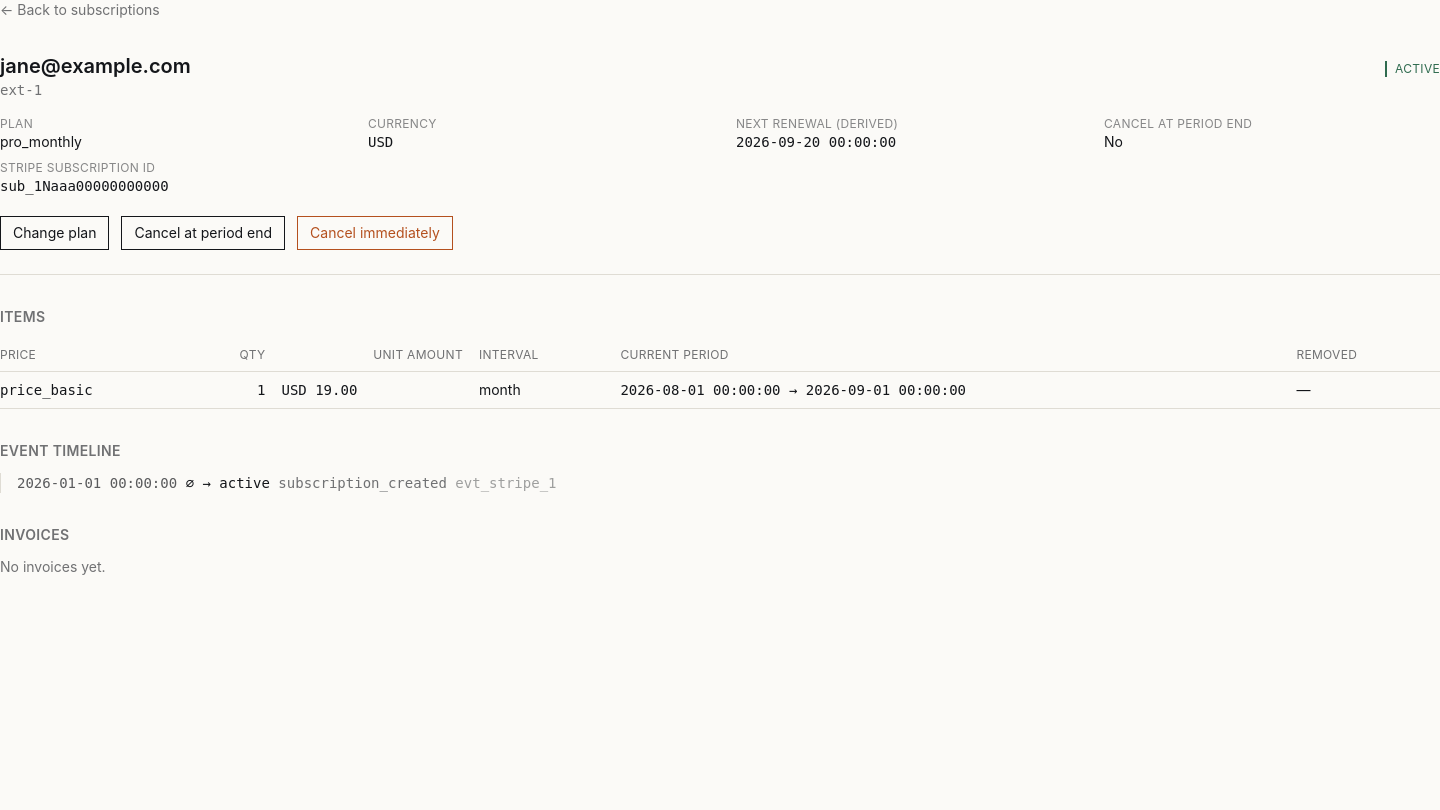
SubscriptionDetailPage cancel confirmation flow › never sends a cancel request when the operator backs out via "Never mind"
expect the heading "jane@example.com" is shown: met, box [0,52,191,80]
// Open via "Cancel at period end"...
Click the button "Cancel at period end" at point(203, 233), box [121,216,285,250]
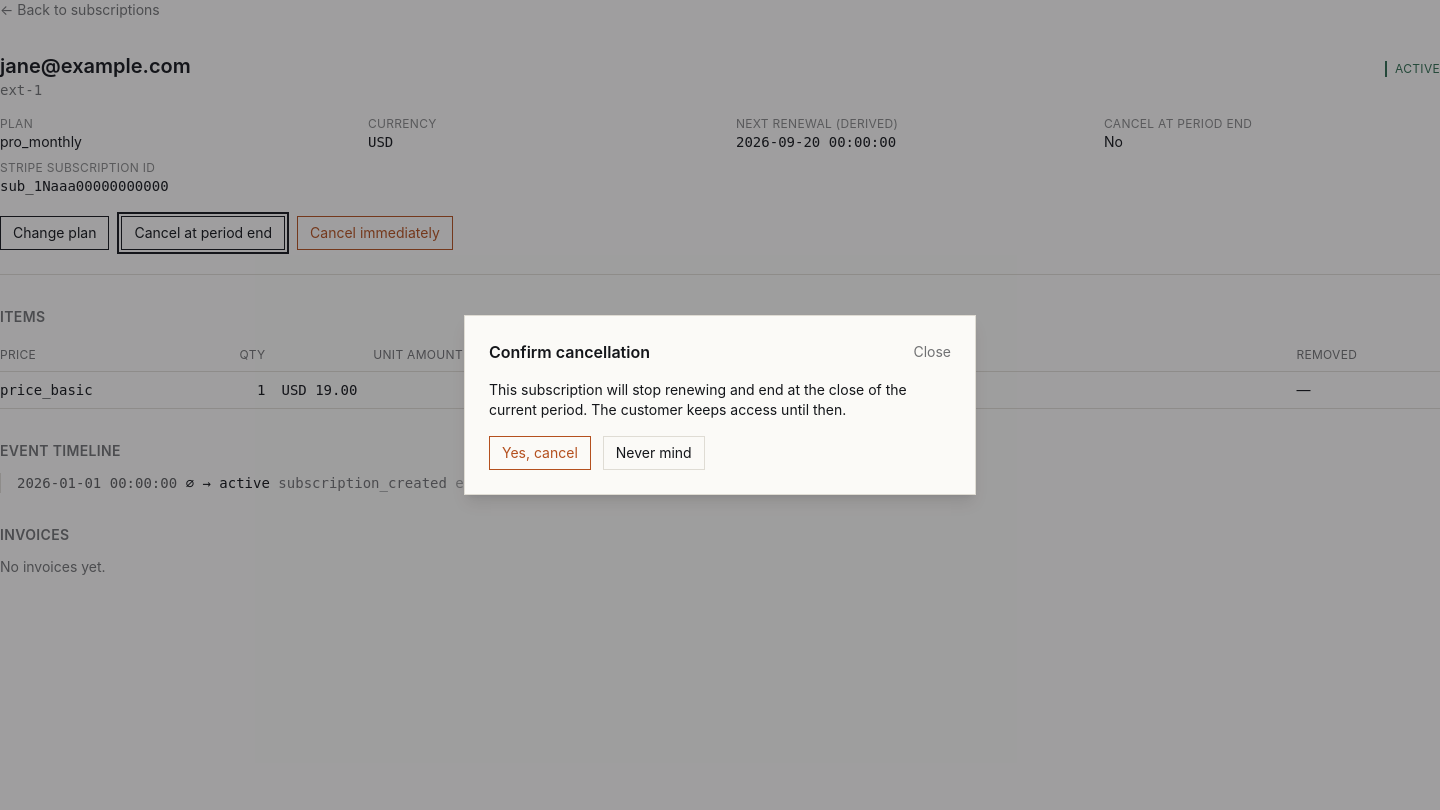
Click the button "Never mind" at point(654, 453), box [603,436,705,470]
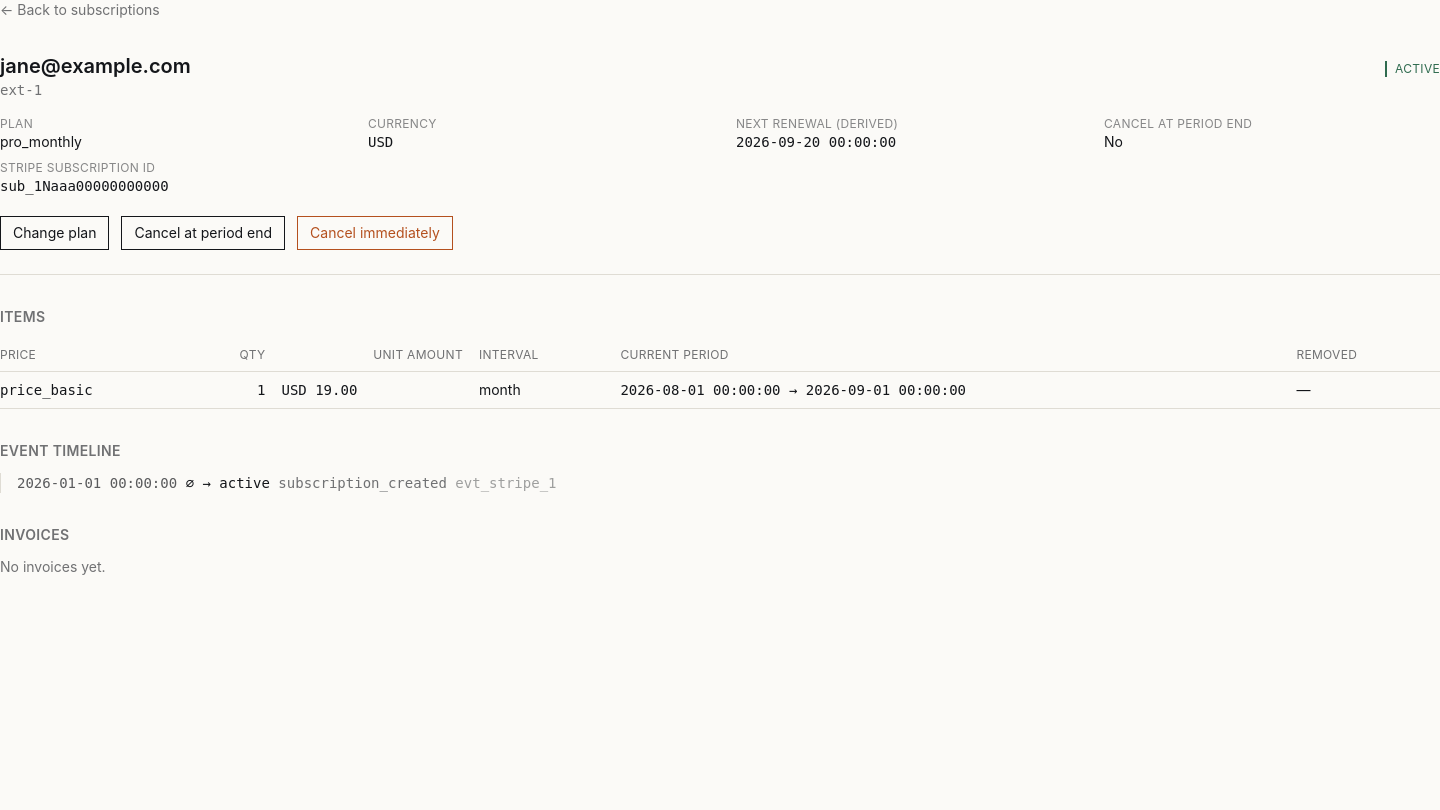
expect the heading "Confirm cancellation" is gone: met
// ...and via "Cancel immediately" too - neither path should ever fire the request.
Click the button "Cancel immediately" at point(375, 233), box [297,216,453,250]
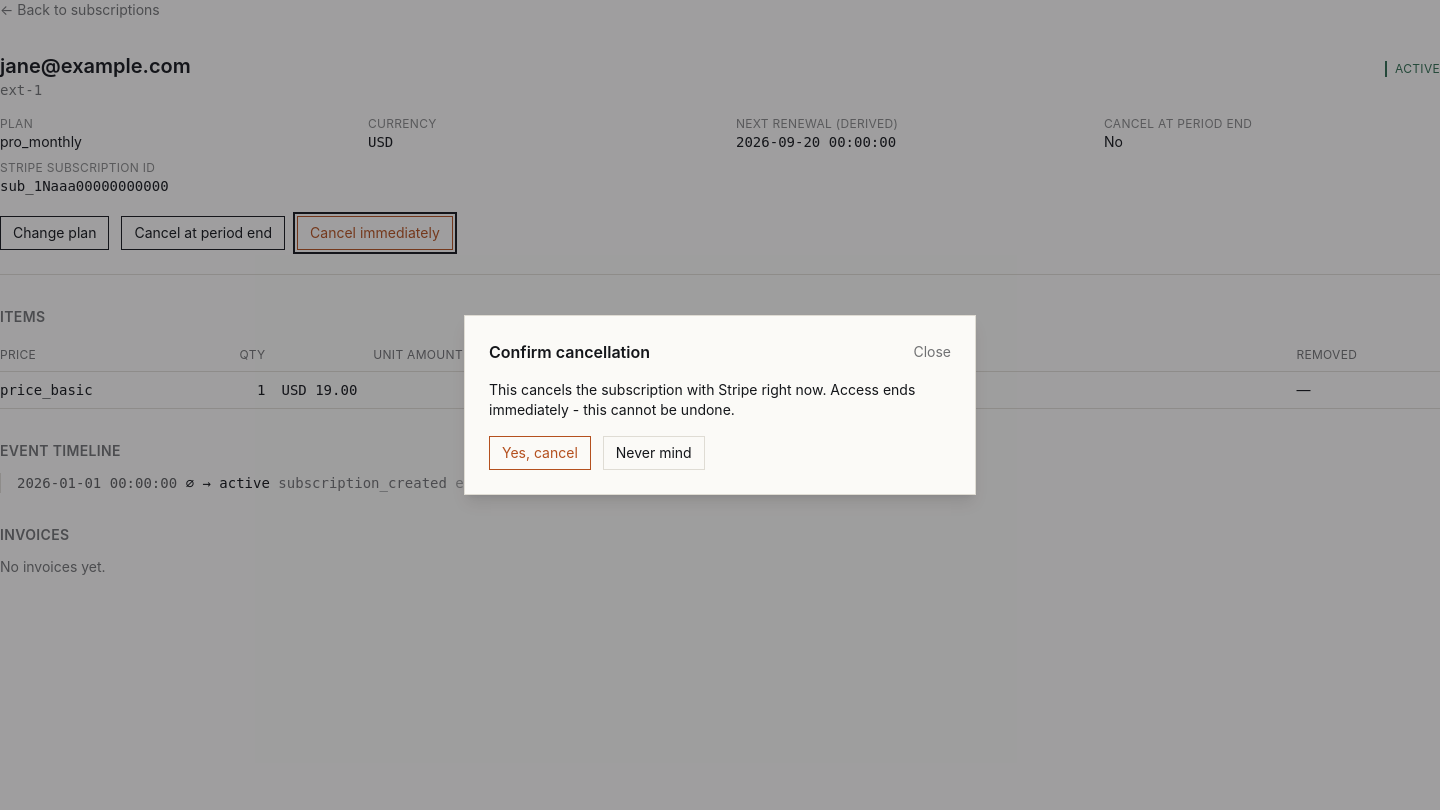
Click the button "Never mind" at point(654, 453), box [603,436,705,470]
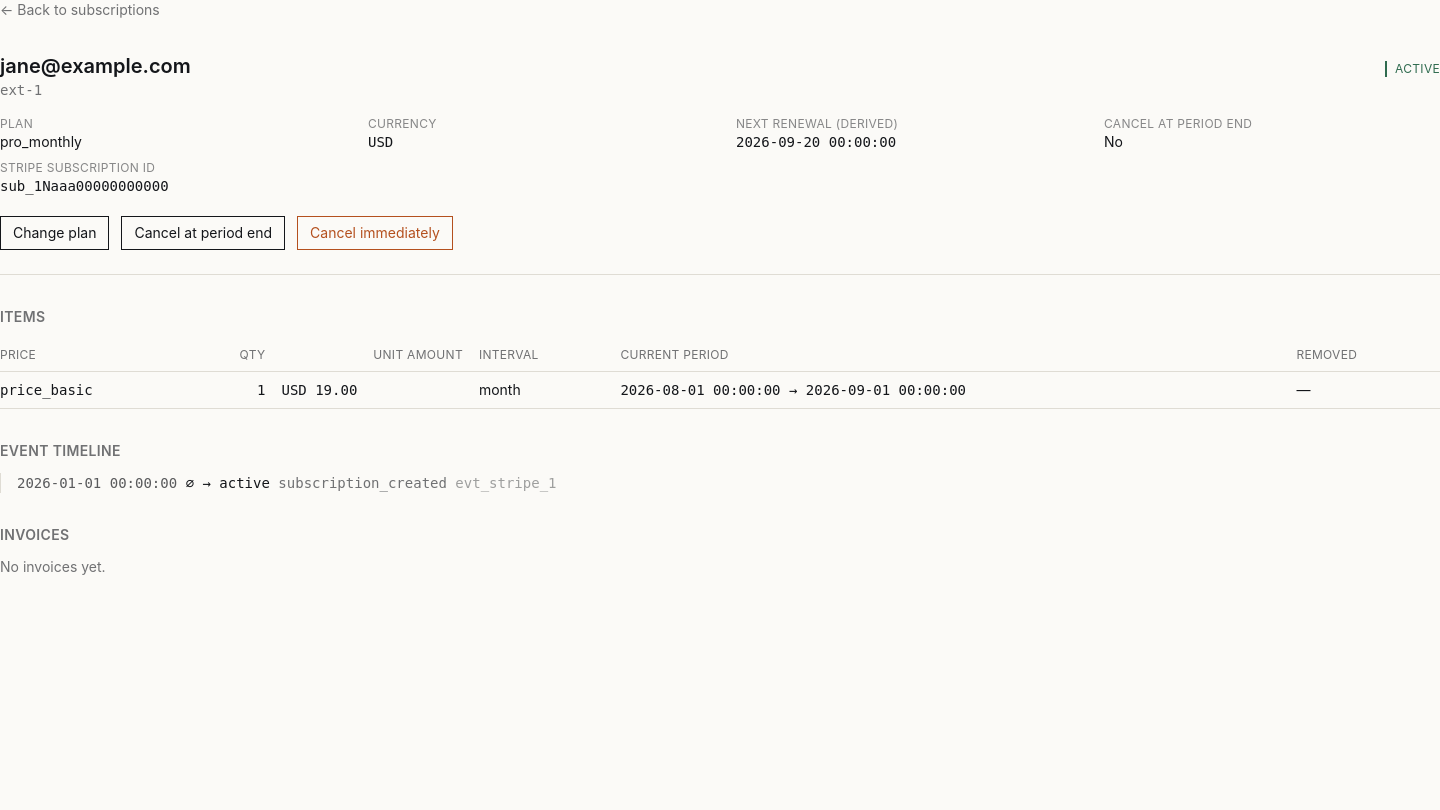
expect the heading "Confirm cancellation" is gone: met
